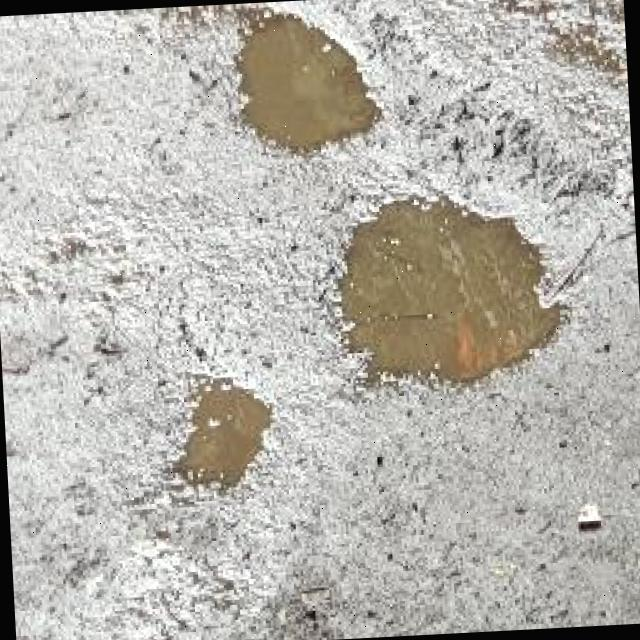waterlogging: (303, 190, 565, 376), (217, 2, 402, 160), (158, 364, 290, 502)
